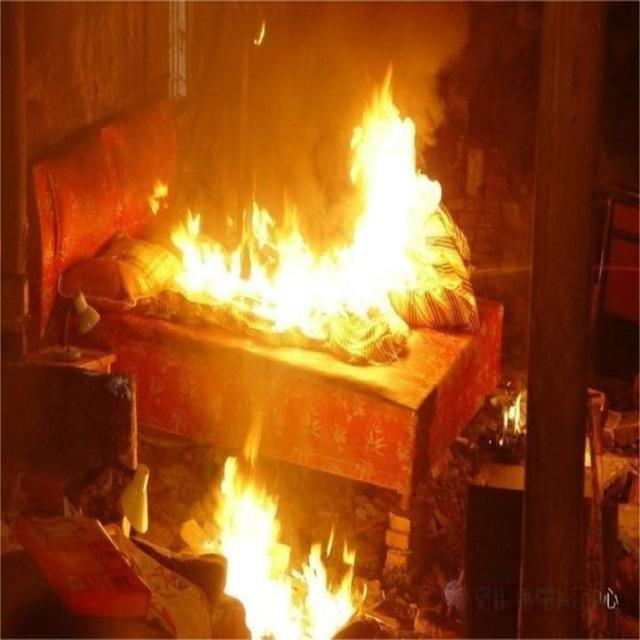Fire: (174, 96, 443, 334), (215, 456, 364, 640)
